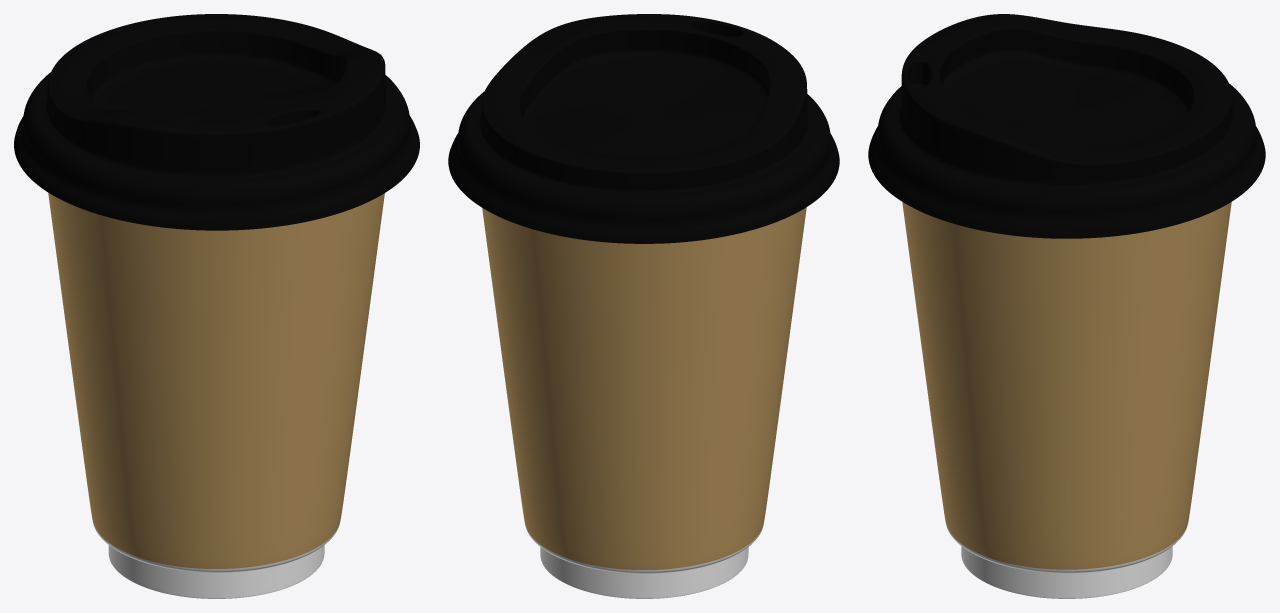
Rendered from coffee_paper-cup.glb.
3 views of the same model, side by side, from view 1: azimuth 30°, elevation 25°; view 2: azimuth 150°, elevation 25°; view 3: azimuth 270°, elevation 25° (orthographic). The views are drawn at different scales.
Parts seen in each view (by area): view 1: Cup.002_1, Cover.002_0; view 2: Cup.002_1, Cover.002_0; view 3: Cup.002_1, Cover.002_0.
Boxes of the visible parts, x1,y1,x2,y2 form: Cup.002_1: (48, 192, 384, 598); Cover.002_0: (14, 14, 419, 230); Cup.002_1: (482, 207, 806, 598); Cover.002_0: (448, 14, 839, 243); Cup.002_1: (902, 202, 1231, 598); Cover.002_0: (868, 14, 1265, 238).
Bounding box in the file's own units: 3.29 × 4.4 × 3.29.
2 materials, 2 textured.
